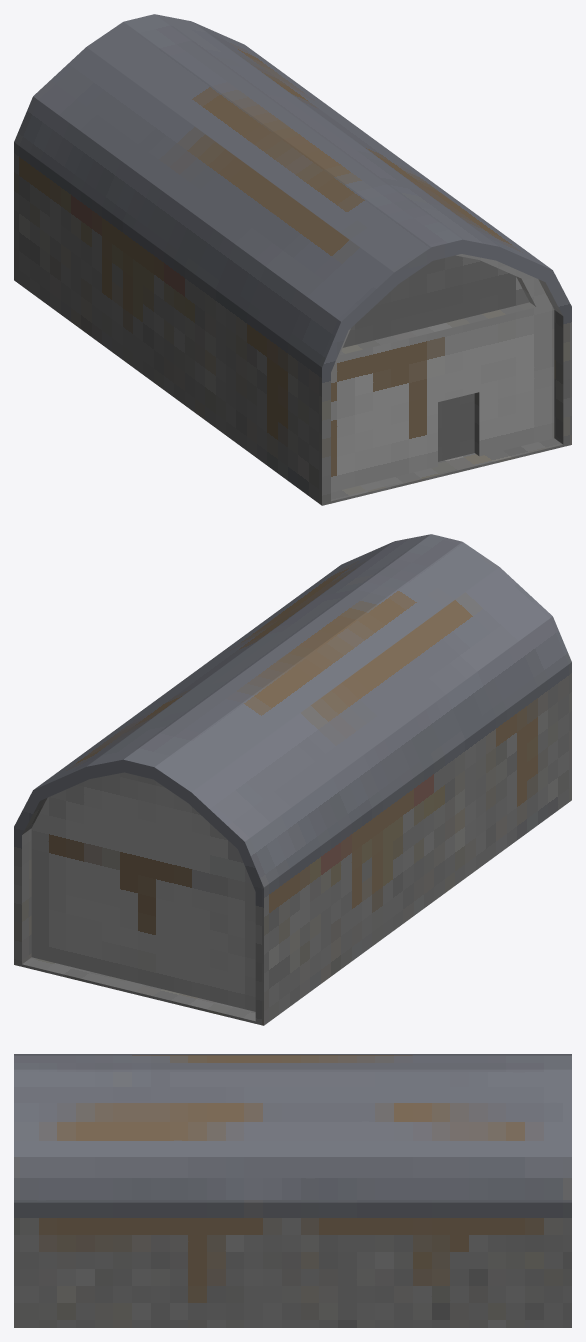
The model's file is warehouse_large.obj.
3 views of the same model, one above another, from view 1: azimuth 30°, elevation 25°; view 2: azimuth 150°, elevation 25°; view 3: azimuth 270°, elevation 25° (orthographic). The views are drawn at different scales.
Parts seen in each view (by area): view 1: Cube; view 2: Cube; view 3: Cube.
Part boxes in pixels (box(x1,y1,x2,y2)): Cube: box(14, 14, 571, 505); Cube: box(14, 534, 571, 1025); Cube: box(14, 1054, 571, 1327).
Bounding box in the file's own units: 3.07 × 2.73 × 6.57.
Materials: 1 (1 with a texture image).
